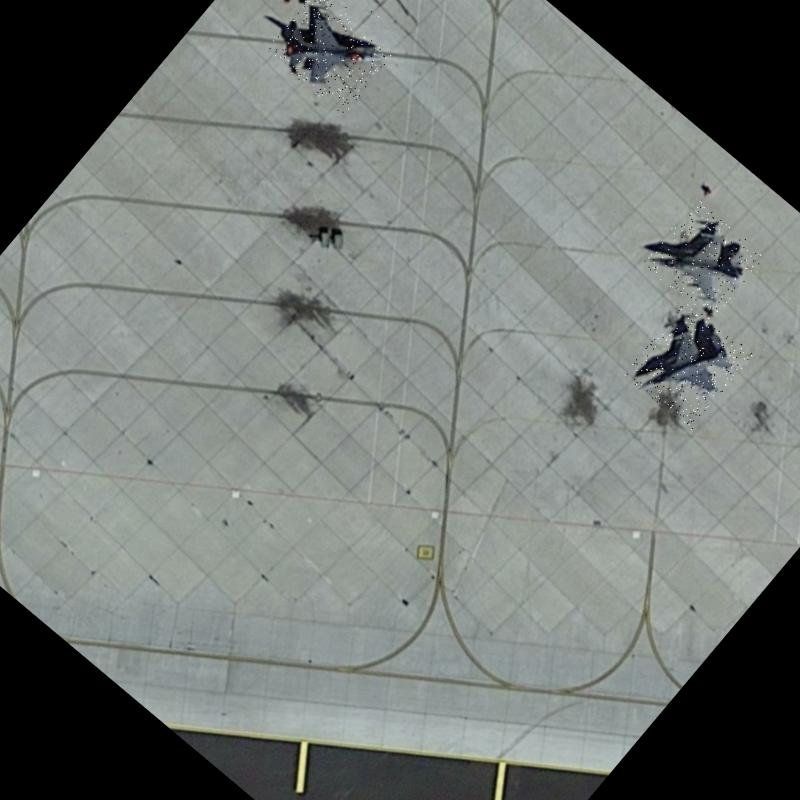A5: (622, 298, 754, 431), (641, 198, 766, 322), (262, 0, 392, 116), (268, 0, 422, 35)
